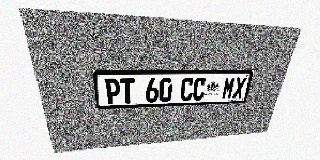0: (159, 78, 173, 102)
6: (145, 78, 159, 103)
C: (192, 78, 207, 101), (180, 78, 194, 101)
M: (221, 77, 236, 99)
P: (104, 78, 121, 104)
T: (120, 78, 135, 104)
X: (232, 77, 247, 99)
